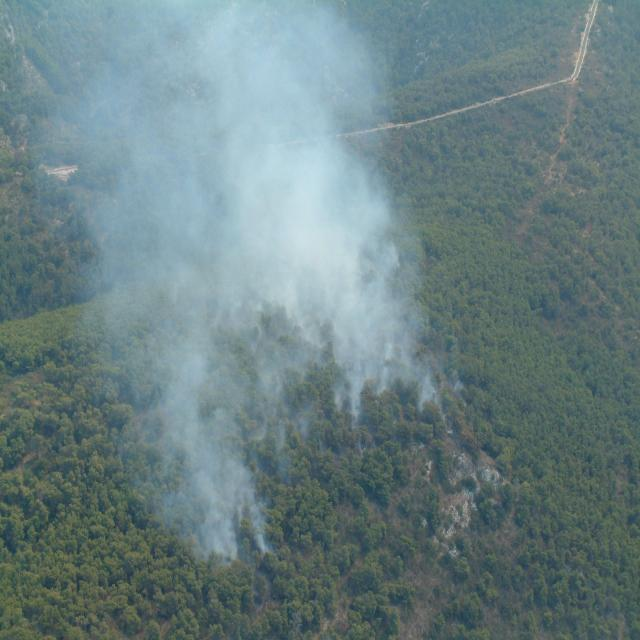Smoke: (1, 0, 464, 568)
